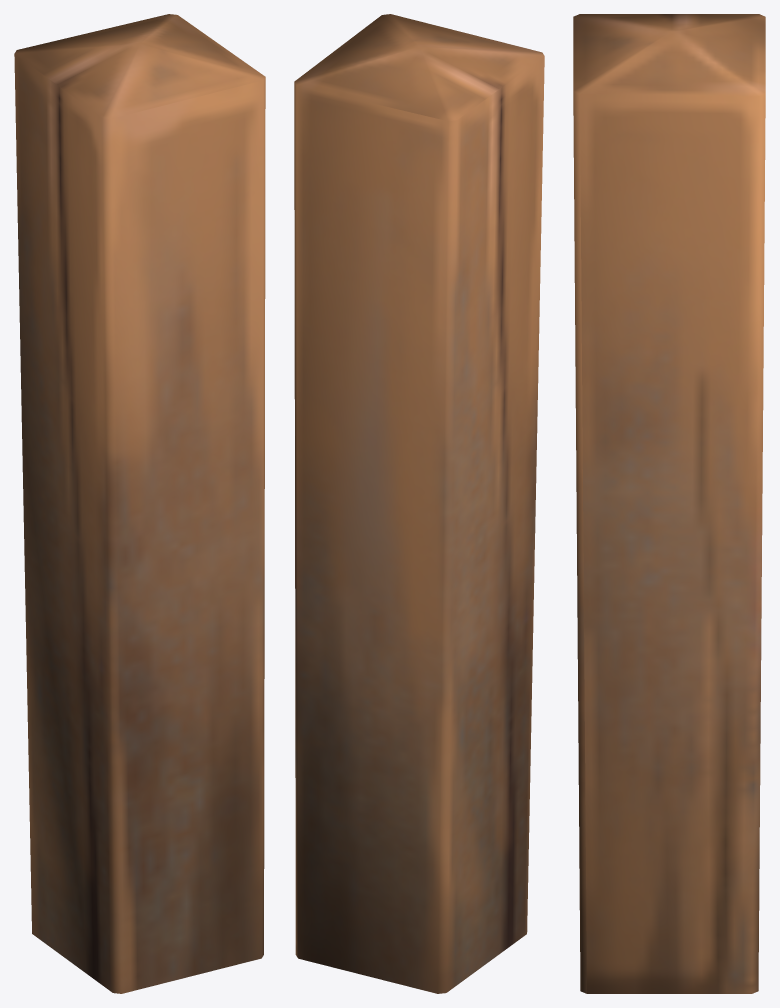
The model's file is FencePost.gltf.
3 views of the same model, side by side, from view 1: azimuth 30°, elevation 25°; view 2: azimuth 150°, elevation 25°; view 3: azimuth 270°, elevation 25° (orthographic). The views are drawn at different scales.
Visible parts, largest first — view 1: Cube.009; view 2: Cube.009; view 3: Cube.009.
Boxes of the visible parts, x1,y1,x2,y2 form: Cube.009: (14,14,265,993); Cube.009: (294,14,544,993); Cube.009: (573,14,765,993).
Size of what is drawn, in the model's own units: 0.2055 by 1.07 by 0.203.
1 material, 1 textured.
